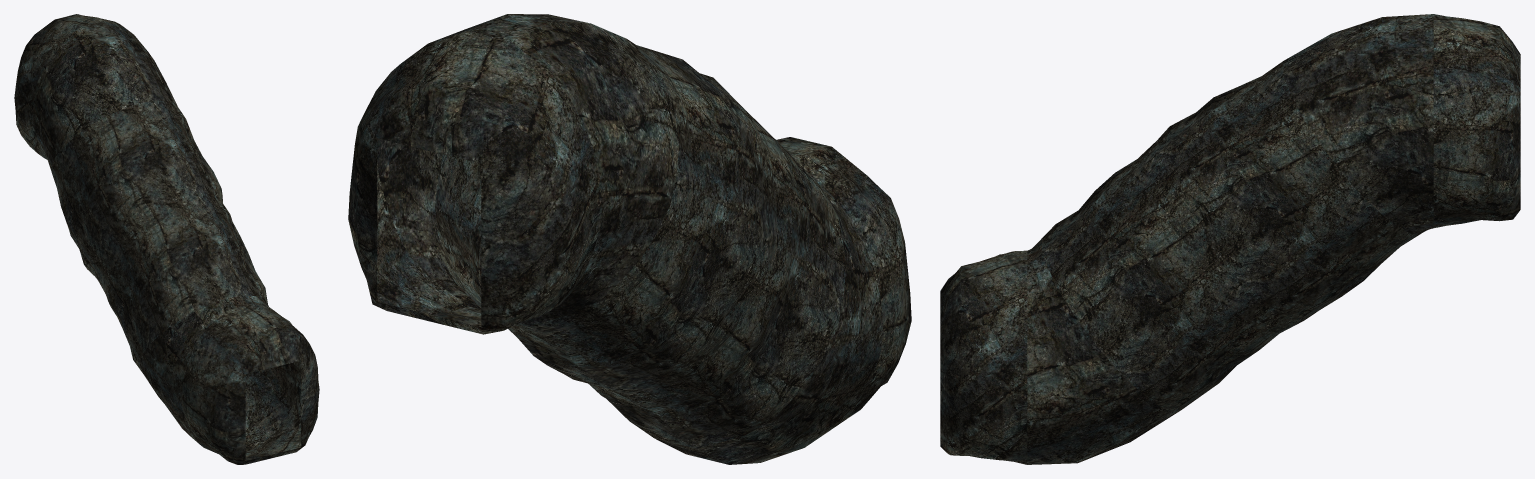
The model's file is 02_06_stairs_special.dae.
3 renders of one model, left to right at view 1: azimuth 30°, elevation 25°; view 2: azimuth 150°, elevation 25°; view 3: azimuth 270°, elevation 25°, orthographic. The views are drawn at different scales.
Parts seen in each view (by area): view 1: 02_06_tunnel_stairs_special; view 2: 02_06_tunnel_stairs_special; view 3: 02_06_tunnel_stairs_special.
Boxes of the visible parts, x1,y1,x2,y2 form: 02_06_tunnel_stairs_special: [14, 14, 319, 464]; 02_06_tunnel_stairs_special: [348, 14, 911, 464]; 02_06_tunnel_stairs_special: [940, 14, 1520, 464].
Bounding box in the file's own units: 3.54 × 8.28 × 10.
